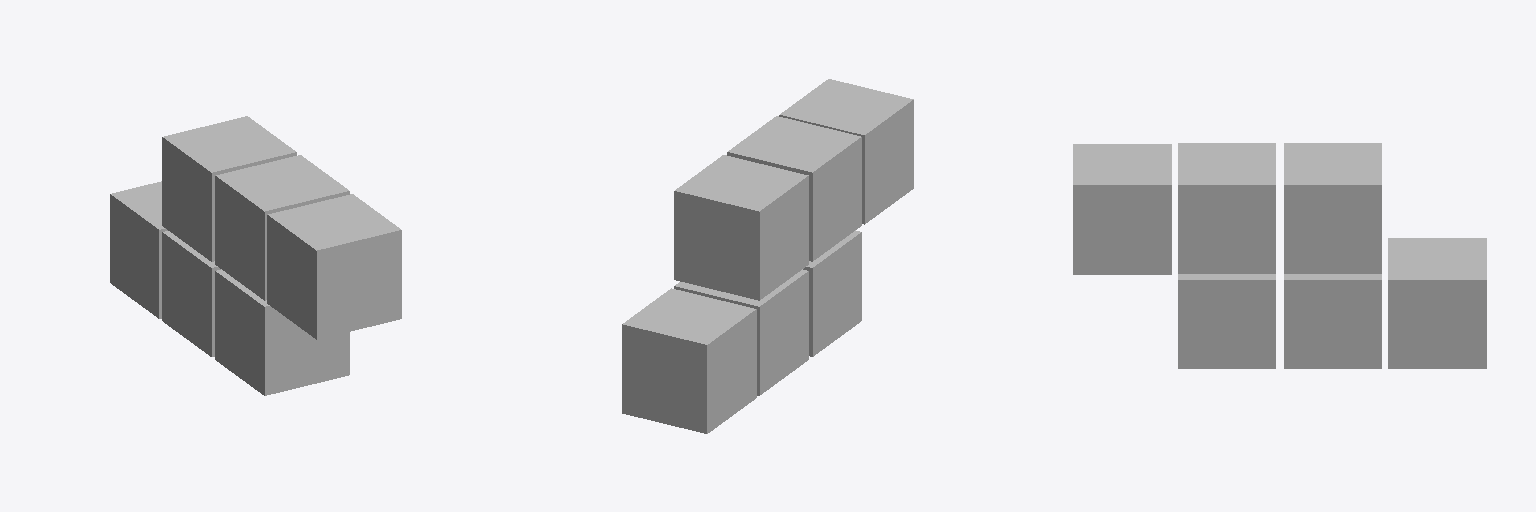
The model's file is SnakeTailRetro.obj.
3 renders of one model, left to right at view 1: azimuth 30°, elevation 25°; view 2: azimuth 150°, elevation 25°; view 3: azimuth 270°, elevation 25°, orthographic.
Visible parts, largest first — view 1: Cube.007, Cube, Cube.006, Cube.002, Cube.004, Cube.003; view 2: Cube.006, Cube.004, Cube.002, Cube.007, Cube.003, Cube; view 3: Cube.004, Cube.007, Cube.002, Cube.006, Cube, Cube.003.
Part boxes in pixels (bbox=[...]): Cube.007: bbox=[267, 194, 401, 339]; Cube: bbox=[215, 269, 349, 395]; Cube.006: bbox=[162, 116, 296, 261]; Cube.002: bbox=[215, 155, 349, 300]; Cube.004: bbox=[110, 181, 167, 318]; Cube.003: bbox=[162, 231, 220, 356]; Cube.006: bbox=[674, 155, 808, 300]; Cube.004: bbox=[622, 288, 756, 433]; Cube.002: bbox=[727, 116, 861, 261]; Cube.007: bbox=[779, 79, 913, 224]; Cube.003: bbox=[674, 269, 808, 395]; Cube: bbox=[803, 230, 861, 356]; Cube.004: bbox=[1388, 238, 1486, 368]; Cube.007: bbox=[1073, 144, 1171, 274]; Cube.002: bbox=[1178, 143, 1275, 273]; Cube.006: bbox=[1284, 143, 1381, 273]; Cube: bbox=[1178, 274, 1275, 368]; Cube.003: bbox=[1284, 274, 1381, 368].
Size of the model in its own units: 2 by 4.14 by 8.39.